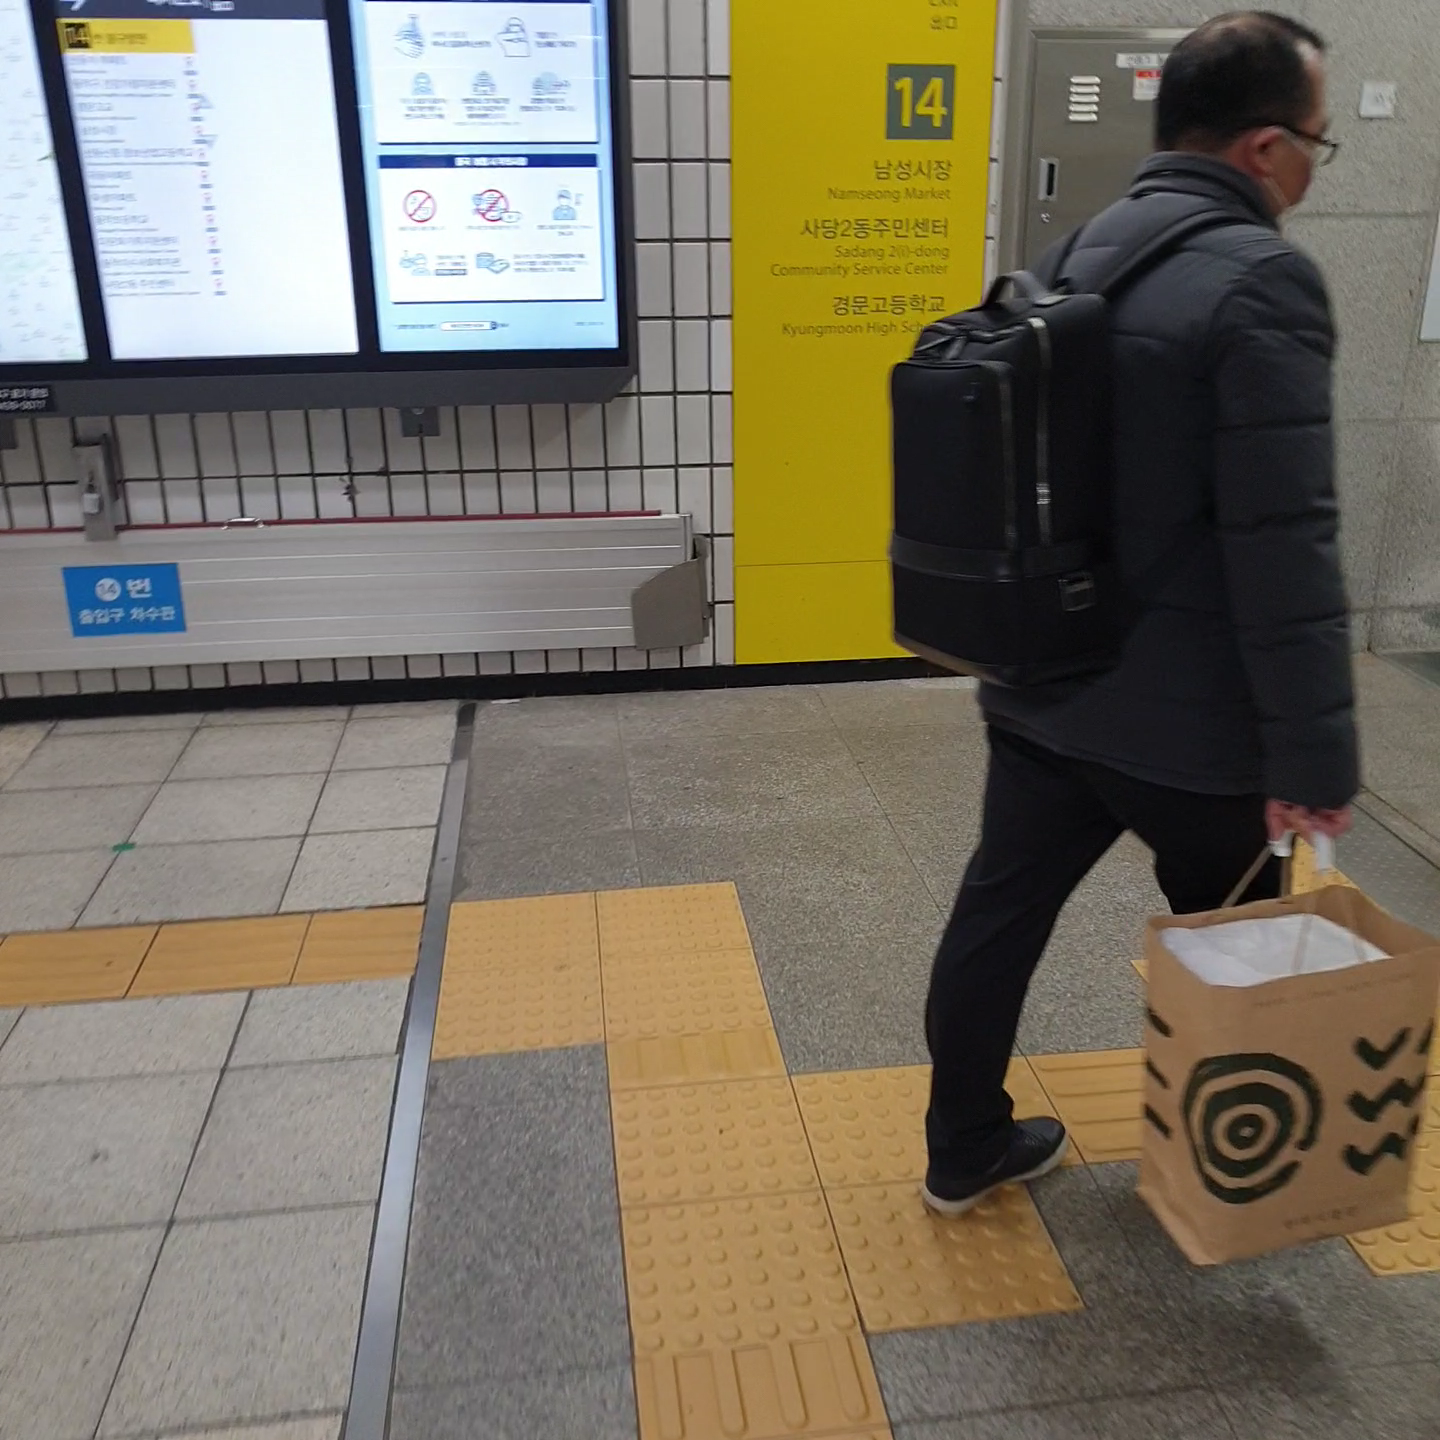dot: (606, 1077, 812, 1199), (450, 966, 601, 1056), (595, 959, 770, 1035), (588, 889, 749, 971), (441, 899, 591, 977)
line: (632, 1339, 877, 1440), (1038, 1050, 1147, 1163), (1, 929, 140, 1005), (152, 920, 298, 987), (295, 911, 424, 983)
person: (918, 30, 1358, 1208)
w: (615, 1203, 852, 1344), (837, 1199, 1065, 1321), (797, 1071, 925, 1184)
